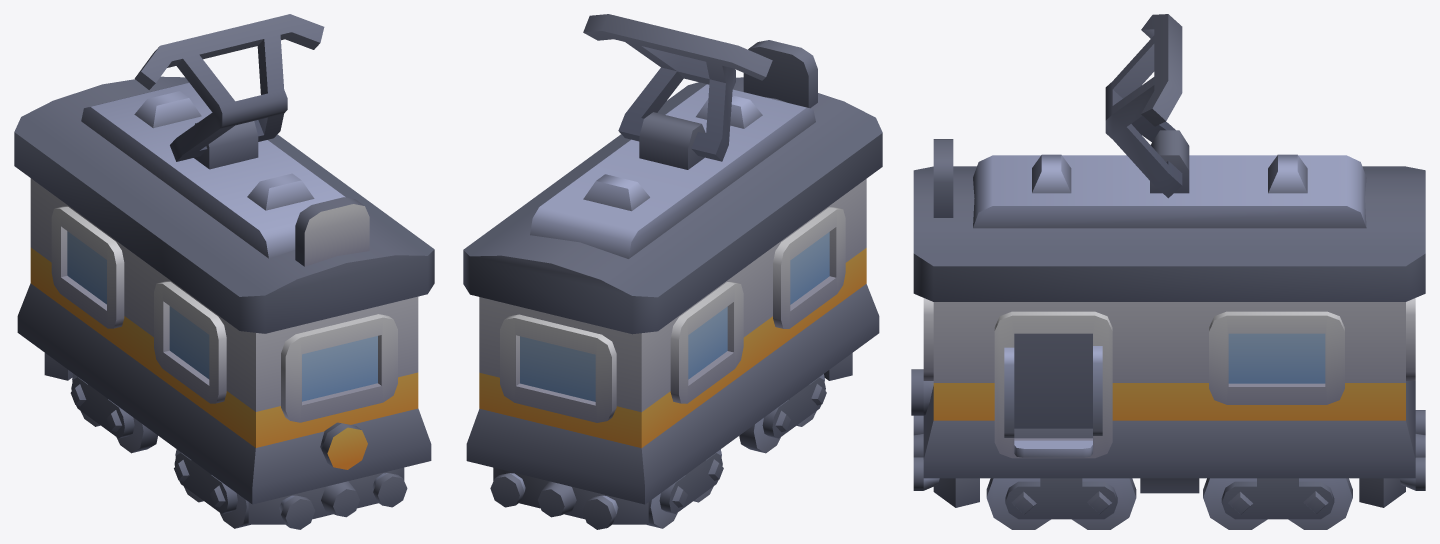
The model's file is train-tram-classic.glb.
3 renders of one model, left to right at view 1: azimuth 30°, elevation 25°; view 2: azimuth 150°, elevation 25°; view 3: azimuth 270°, elevation 25°, orthographic. The views are drawn at different scales.
Visible parts, largest first — view 1: train-tram-classic, collector, wheels-back, wheels-front; view 2: train-tram-classic, collector, wheels-front, wheels-back; view 3: train-tram-classic, collector, wheels-front, wheels-back.
Part boxes in pixels (left/top/right/bottom): train-tram-classic: left=14, top=76, right=434, bottom=529; collector: left=134, top=14, right=324, bottom=161; wheels-back: left=70, top=374, right=157, bottom=453; wheels-front: left=174, top=449, right=250, bottom=528; train-tram-classic: left=463, top=40, right=882, bottom=529; collector: left=583, top=14, right=772, bottom=161; wheels-front: left=739, top=374, right=826, bottom=453; wheels-back: left=647, top=449, right=723, bottom=528; train-tram-classic: left=911, top=130, right=1425, bottom=507; collector: left=1105, top=14, right=1182, bottom=198; wheels-front: left=986, top=478, right=1136, bottom=529; wheels-back: left=1203, top=478, right=1352, bottom=529.
Size of the model in its own units: 1.25 by 2.52 by 2.61.
